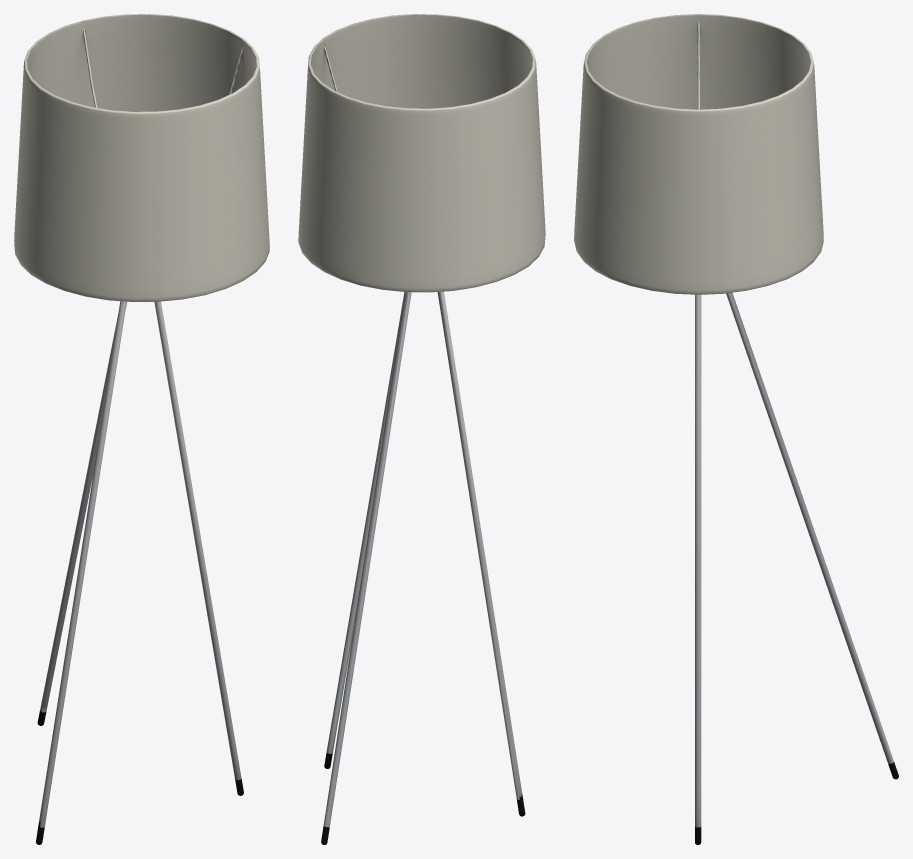
File: ore-3legged-white_baked.glb
3 renders of one model, left to right at view 1: azimuth 30°, elevation 25°; view 2: azimuth 150°, elevation 25°; view 3: azimuth 270°, elevation 25°, orthographic. The views are drawn at different scales.
Visible parts, largest first — view 1: ore-3legged-white_baked; view 2: ore-3legged-white_baked; view 3: ore-3legged-white_baked.
Boxes of the visible parts, <box> form: ore-3legged-white_baked: <box>14,14,269,844</box>; ore-3legged-white_baked: <box>298,14,545,844</box>; ore-3legged-white_baked: <box>574,14,898,844</box>.
Size of the model in its own units: 44.4 by 144 by 57.75.
Materials: 1 (1 with a texture image).
